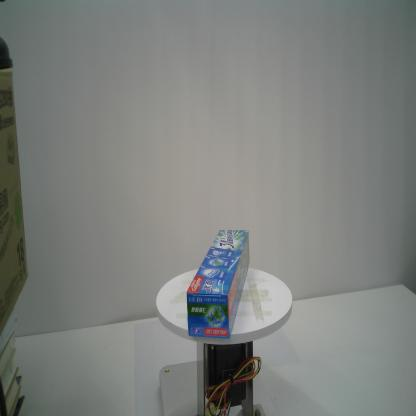Personal Hygiene: (186, 228, 251, 340)
